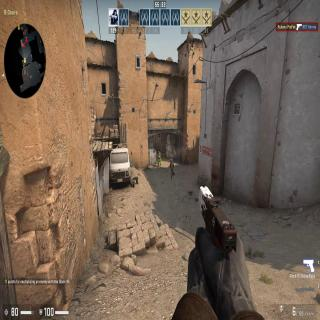CT-Body: (169, 158, 174, 176), (157, 151, 161, 166)
CT-Head: (170, 159, 173, 163), (158, 150, 160, 154)
